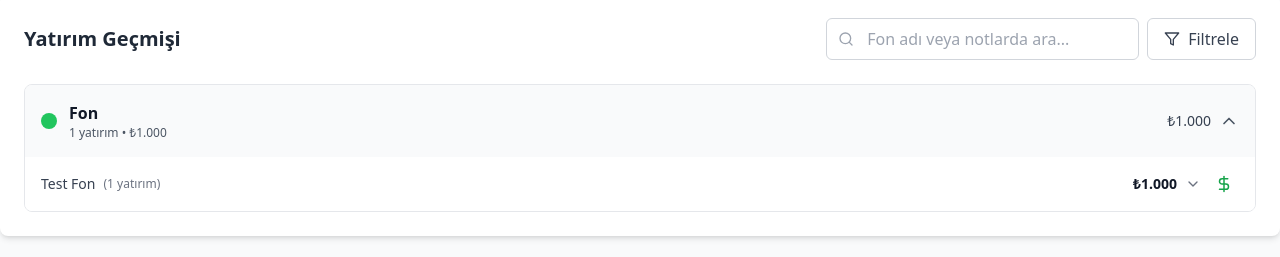
Test: InvestmentList Edge Cases › should handle empty search results message
Type "Bulunamayacak" into the field named "yatırımlarda ara". click: (983, 39)
box: [826,18,1139,60]
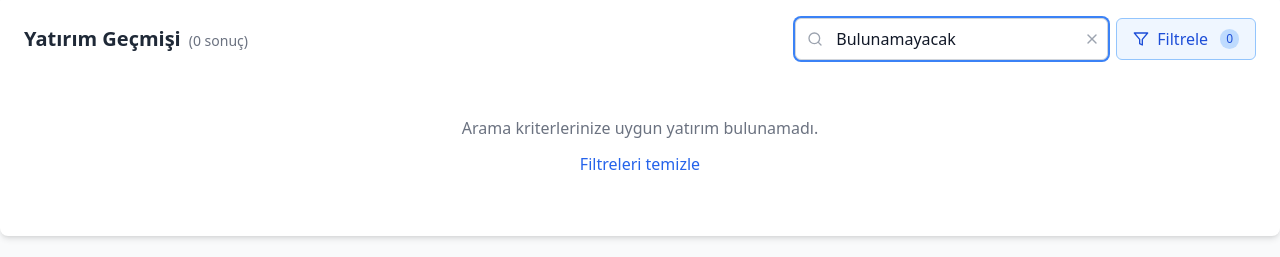
Expected: the text "Arama kriterlerinize uygun yatırım bulunamadı." is shown, [462,117,818,139]
